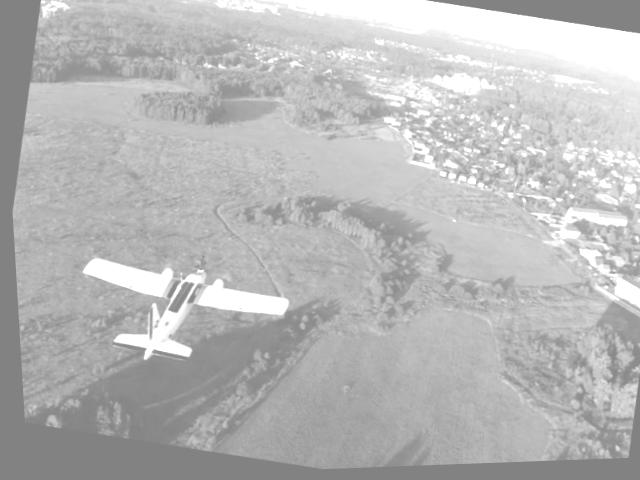hedef: (45, 229, 309, 400)
